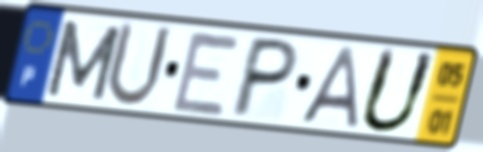A: (297, 44, 360, 130)
E: (168, 27, 245, 120)
M: (42, 17, 125, 104)
P: (226, 33, 304, 120)
U: (355, 45, 441, 136), (101, 18, 176, 111)
